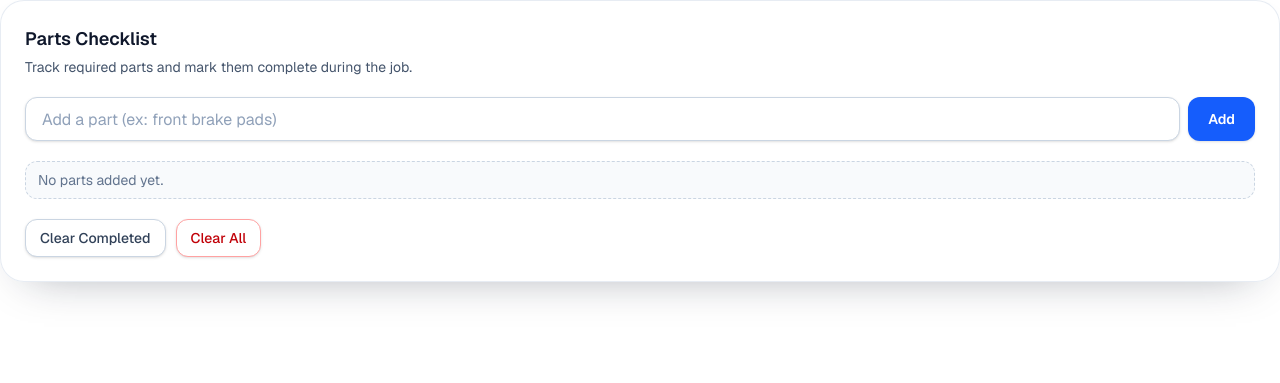
Test: PartsChecklist › clears completed items
This screenshot has width=1280, height=383.
Type "Spark Plugs" into the field with placeholder "Add a part (ex: front brake pads)". click: point(603, 119)
box: x1=25 y1=97 x2=1180 y2=141
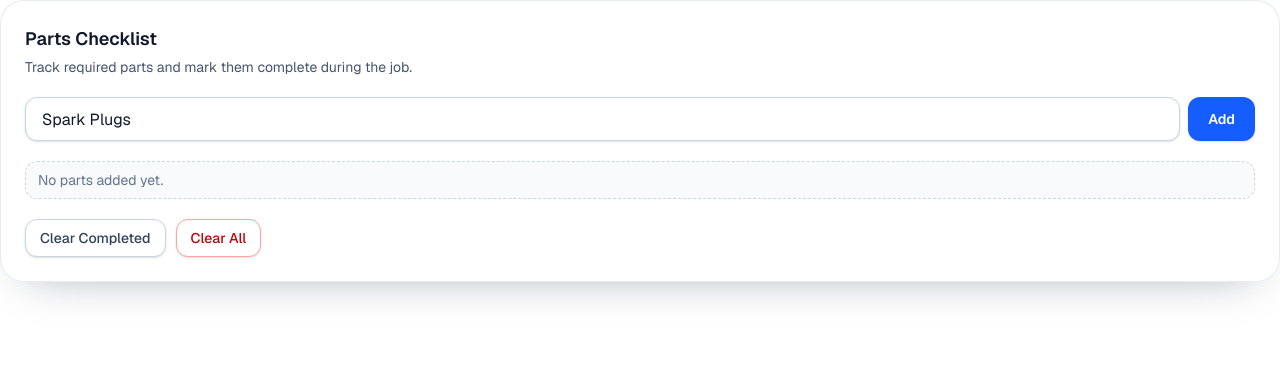
Click the button "Add". click: point(1222, 119)
box: x1=1188 y1=97 x2=1255 y2=141
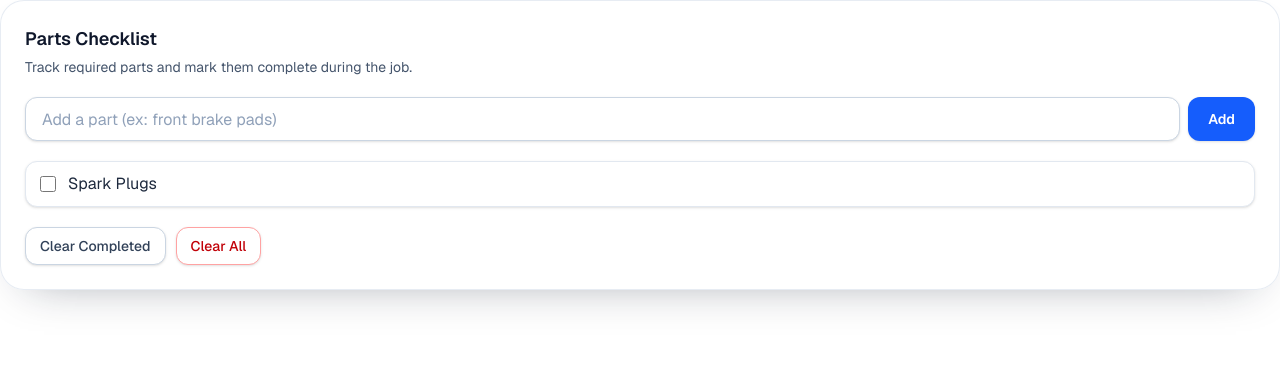
Type "Cabin Filter" into the field with placeholder "Add a part (ex: front brake pads)". click: point(603, 119)
box: x1=25 y1=97 x2=1180 y2=141
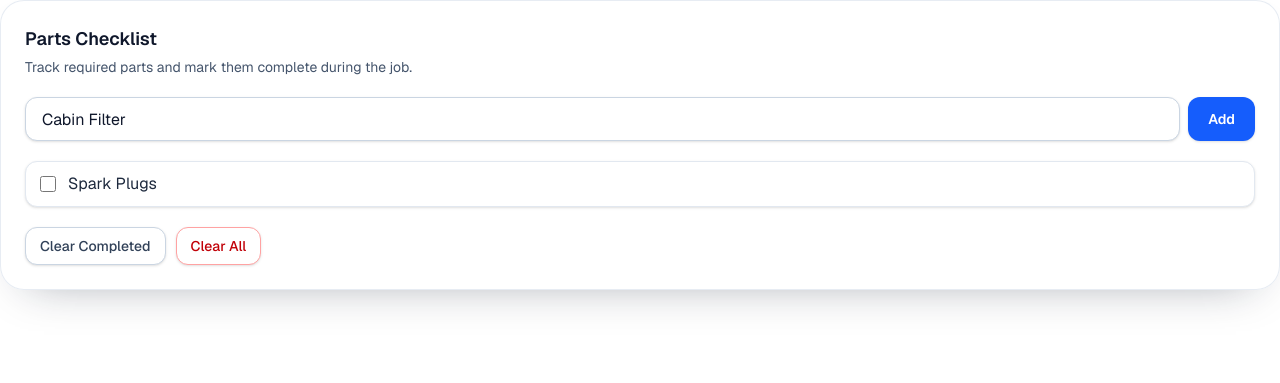
Click the button "Add". click: point(1222, 119)
box: x1=1188 y1=97 x2=1255 y2=141
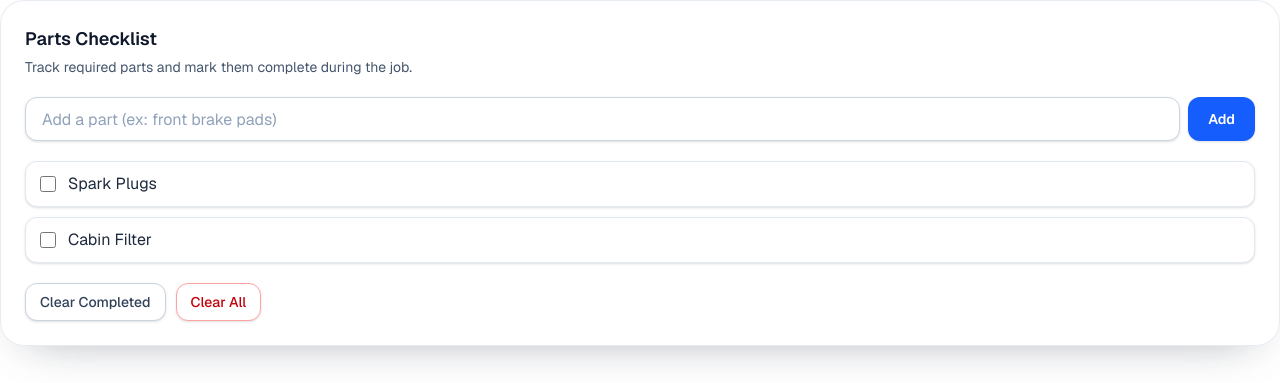
Click the checkbox labelled "Spark Plugs". click: point(48, 184)
box: x1=40 y1=176 x2=56 y2=192
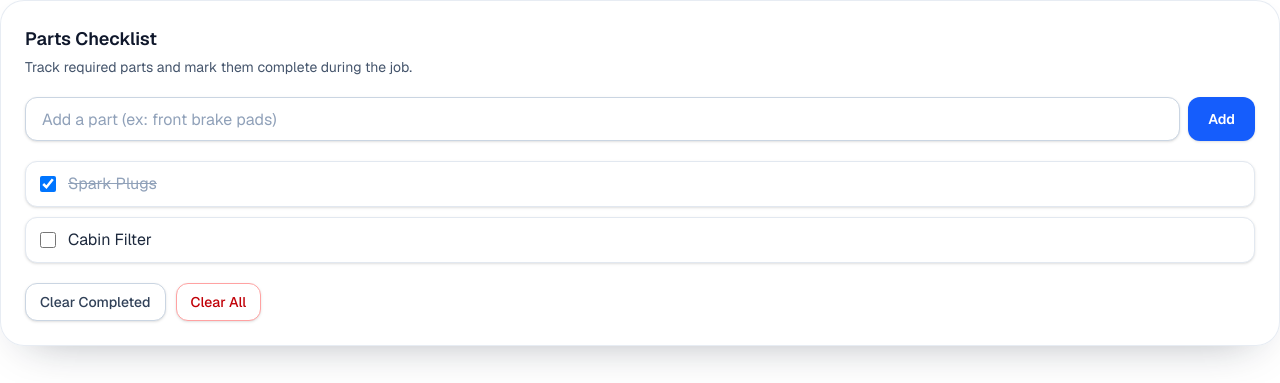
Click the button "Clear Completed". click: point(95, 302)
box: x1=25 y1=283 x2=166 y2=321
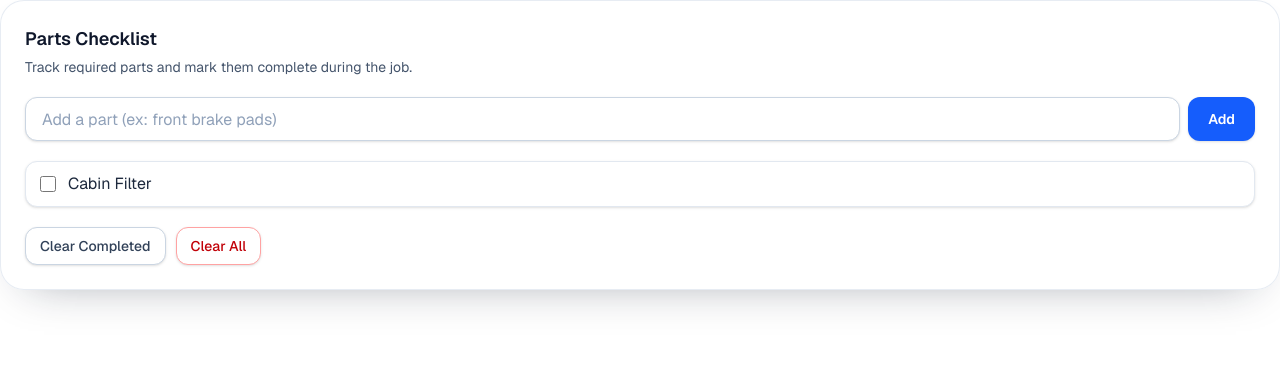
Check: the text "Cabin Filter" is shown, box x1=68 y1=172 x2=152 y2=196
Check: the text "Spark Plugs" is gone
